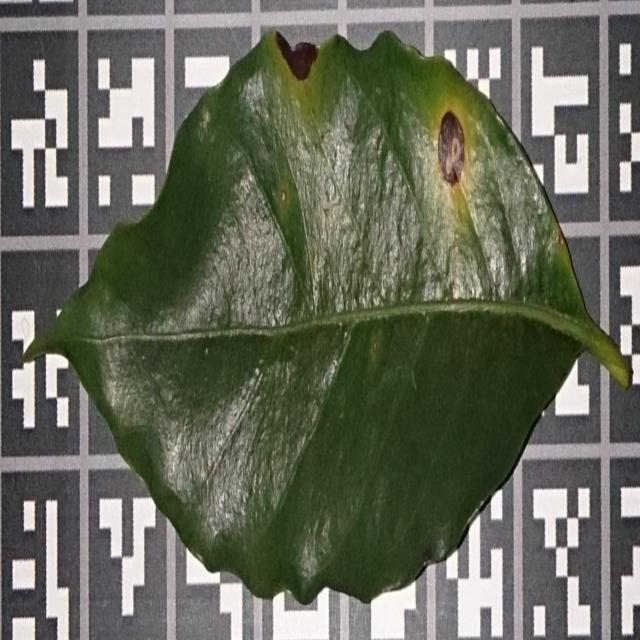Enfermedad-Mancha-de-hierro: (23, 32, 635, 608)
